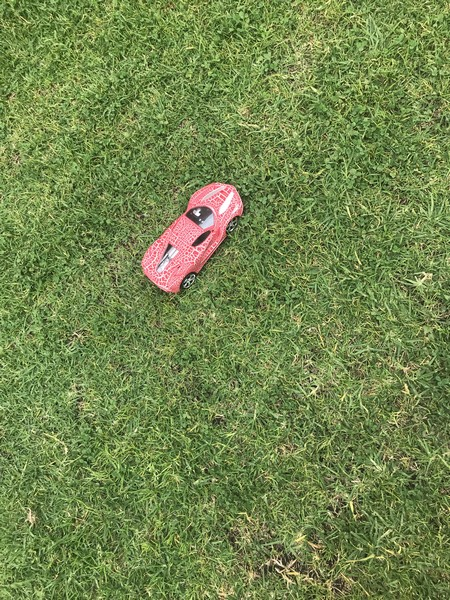RC: (140, 181, 246, 296)
